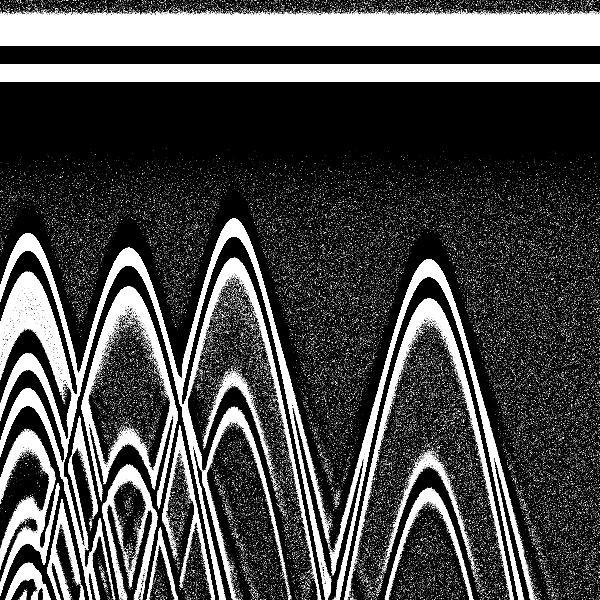pipe: (375, 5, 482, 355), (79, 7, 177, 340), (186, 5, 280, 304), (1, 5, 75, 327)
